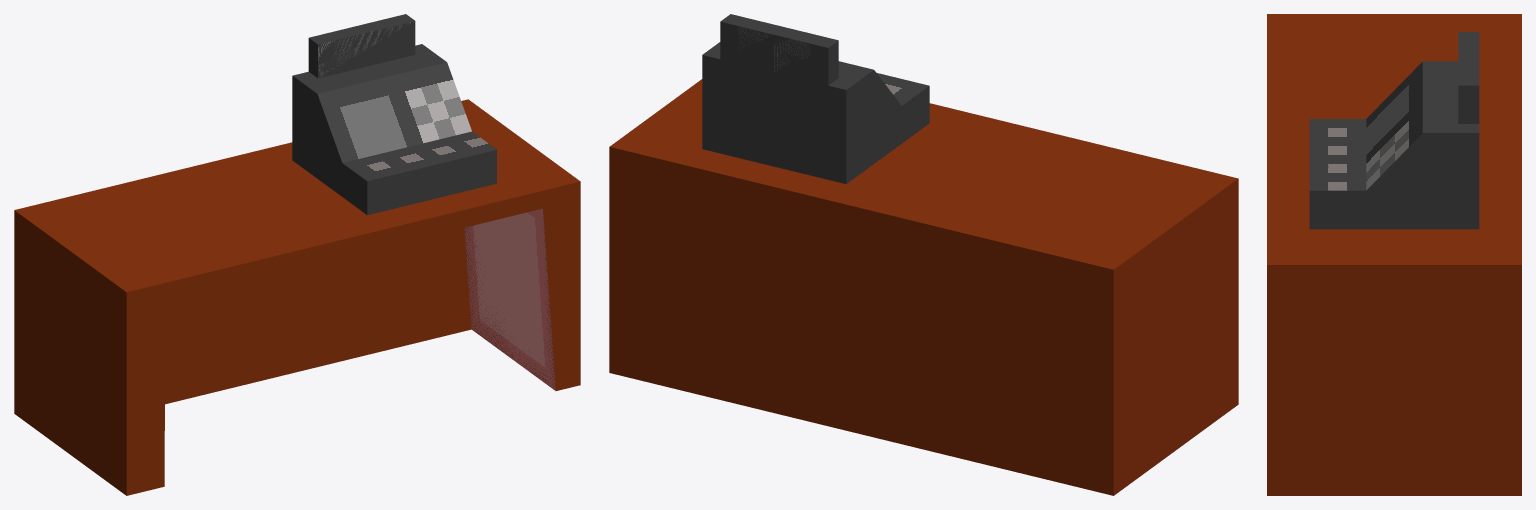
The model's file is store counter.gltf.
3 views of the same model, side by side, from view 1: azimuth 30°, elevation 25°; view 2: azimuth 150°, elevation 25°; view 3: azimuth 270°, elevation 25° (orthographic). The views are drawn at different scales.
Parts seen in each view (by area): view 1: cuboid (×2); view 2: cuboid (×2); view 3: cuboid (×2).
Boxes of the visible parts, box(x1,y1,x2,y2) form: cuboid (×2): box(14, 14, 580, 495); cuboid (×2): box(609, 14, 1238, 495); cuboid (×2): box(1267, 14, 1521, 495).
Bounding box in the file's own units: 1.75 × 1.19 × 0.75.
Materials: 2 (2 with a texture image).
